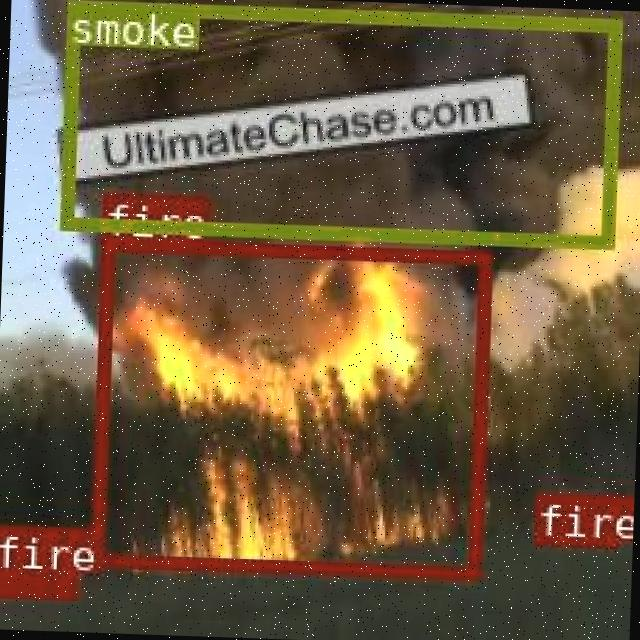fire: (89, 235, 488, 578), (533, 491, 616, 545), (0, 566, 73, 597)
smoke: (58, 0, 618, 245)
